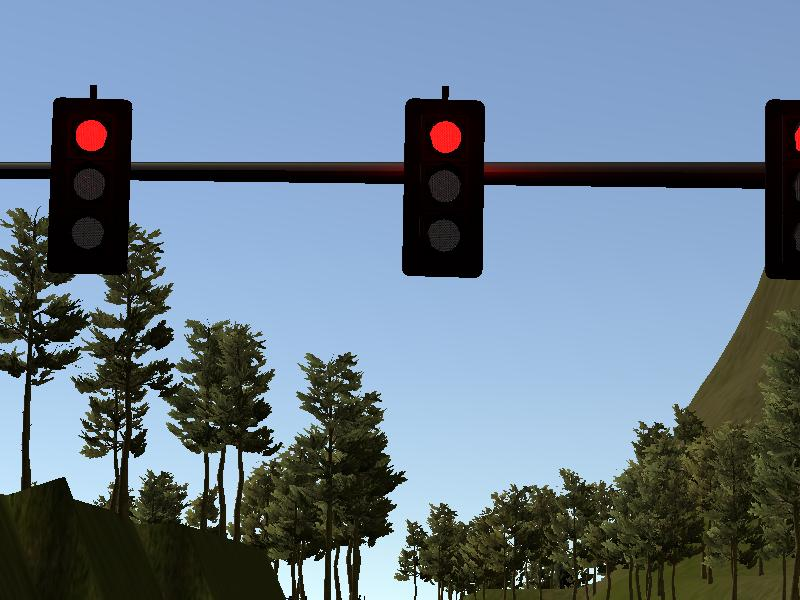red: (400, 96, 484, 280), (49, 96, 131, 277)
